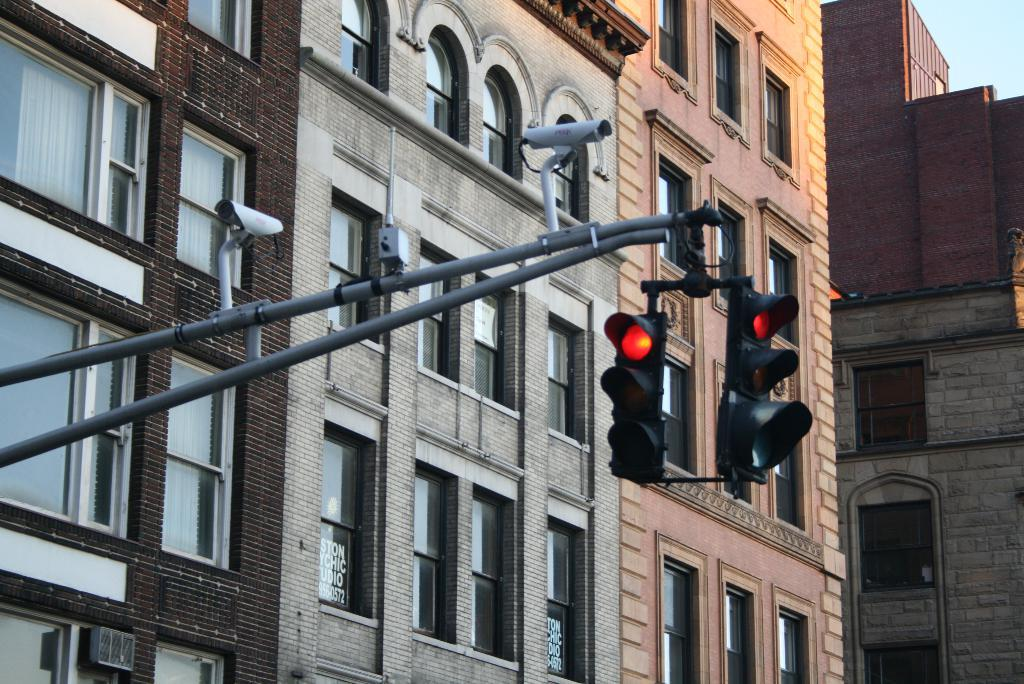red_light: (718, 285, 812, 485), (602, 313, 664, 485)
